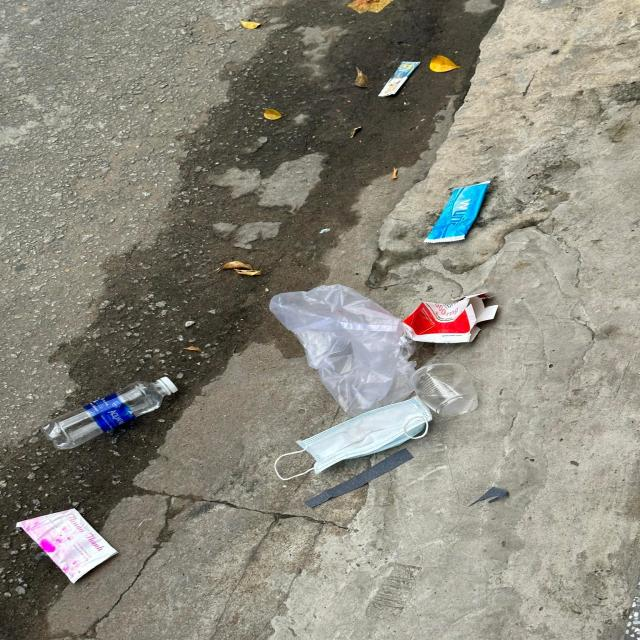bag: (270, 284, 417, 418)
bottle: (41, 376, 178, 449)
cardboard box: (403, 292, 498, 343)
mask: (276, 396, 432, 480)
packet: (15, 508, 119, 586), (424, 179, 492, 243)
plastic glass: (411, 363, 479, 415)
